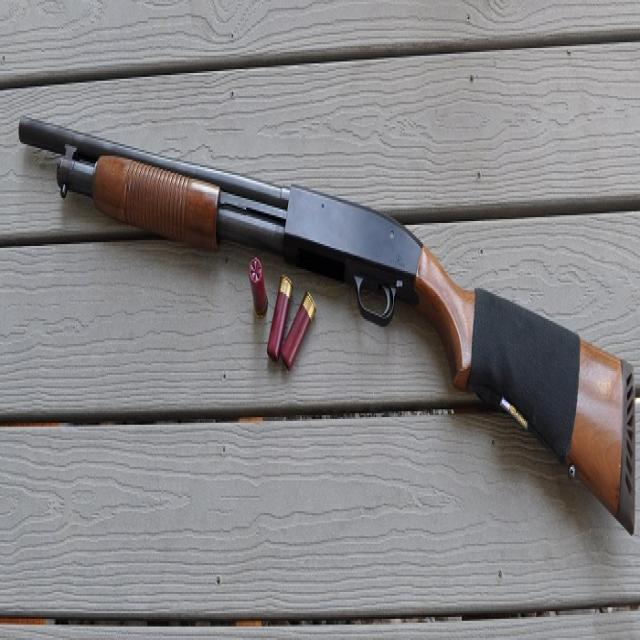ShotGun: (17, 121, 640, 532)
